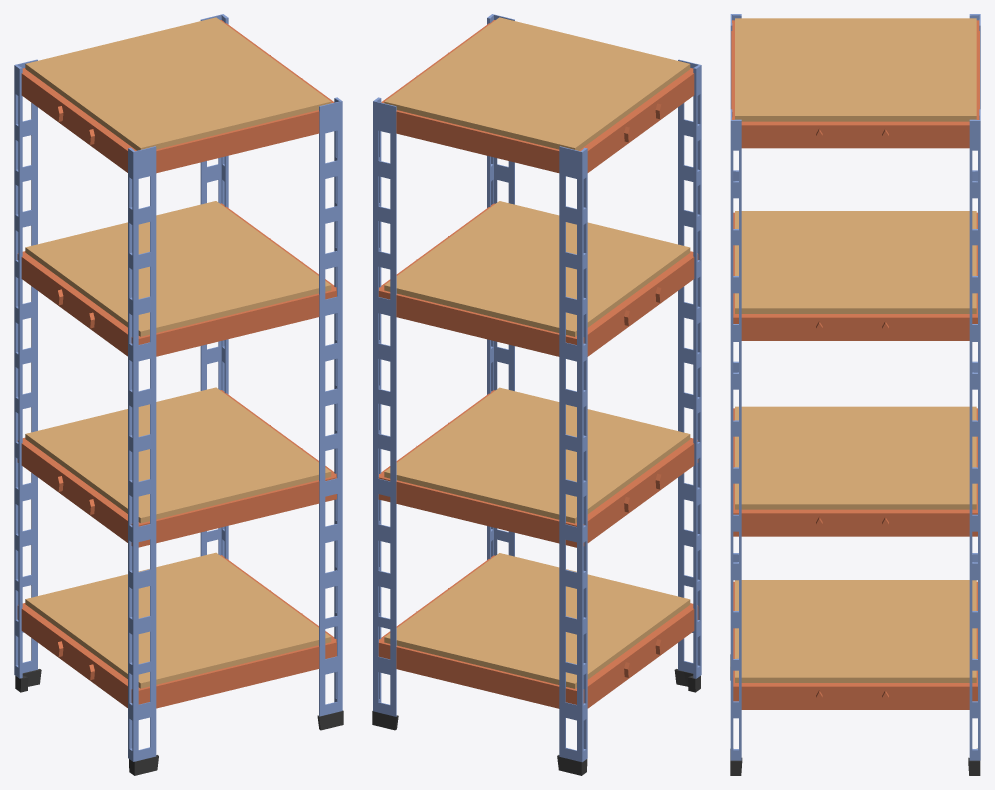
Rendered from shelf.fbx.
The picture shows the model from 3 angles, left to right: view 1: azimuth 30°, elevation 25°; view 2: azimuth 150°, elevation 25°; view 3: azimuth 270°, elevation 25°; orthographic projection. The views are drawn at different scales.
Visible parts, largest first — view 1: Shelf_Cube.004; view 2: Shelf_Cube.004; view 3: Shelf_Cube.004.
Part boxes in pixels (box(x1,y1,x2,y2)): Shelf_Cube.004: box(14, 14, 343, 775); Shelf_Cube.004: box(372, 14, 701, 775); Shelf_Cube.004: box(730, 14, 980, 775).
Size of the model in its own units: 87.29 by 244 by 84.71.
